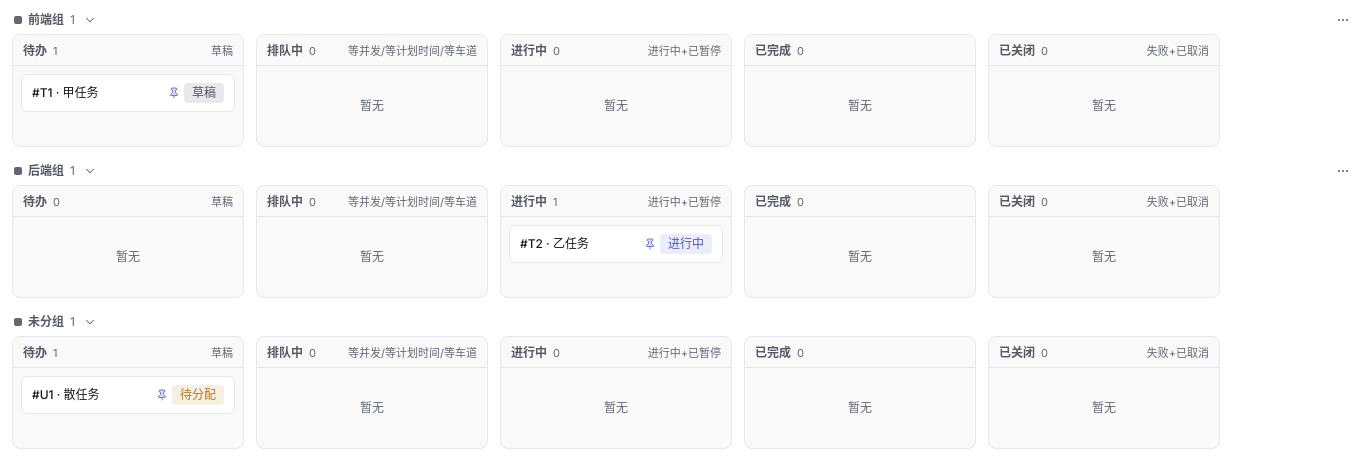
it: BoardCanvas 渲染结构 › 泳道折叠:点击 chevron 只留 header,该泳道卡片卸载
Click the button named "折叠泳道 前端组" at (90, 20), box [81,13,99,27]
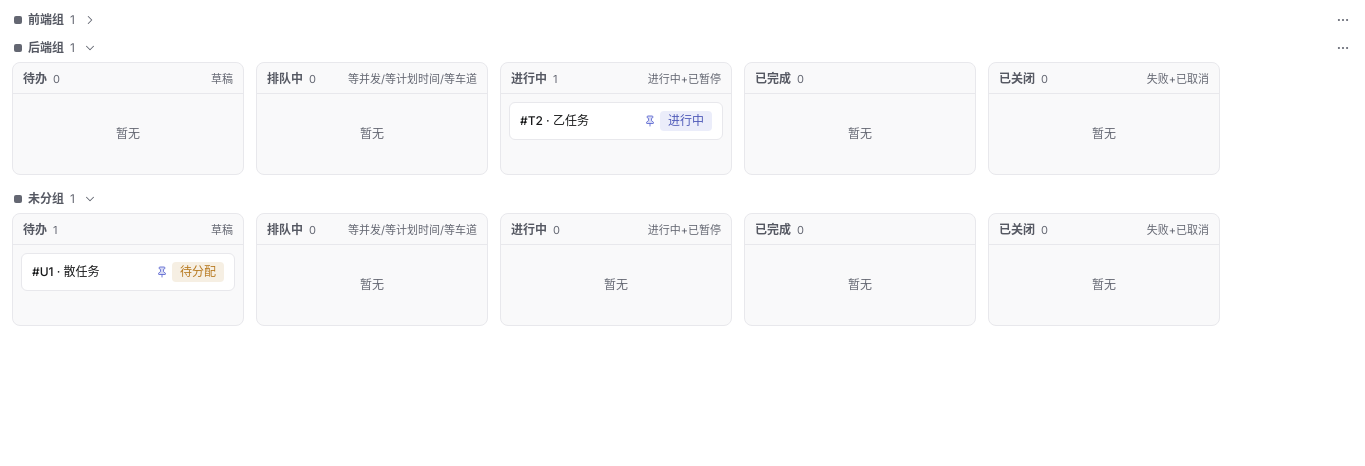
Expected: the heading "前端组 1" is shown, [14,12,75,28]
Result: the button "甲任务" is gone
